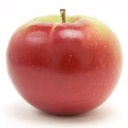apple: (5, 13, 123, 117)
